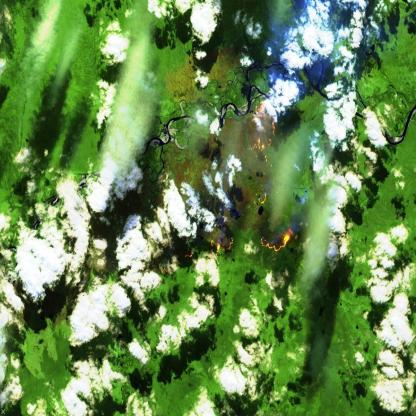fire: (154, 97, 306, 271)
